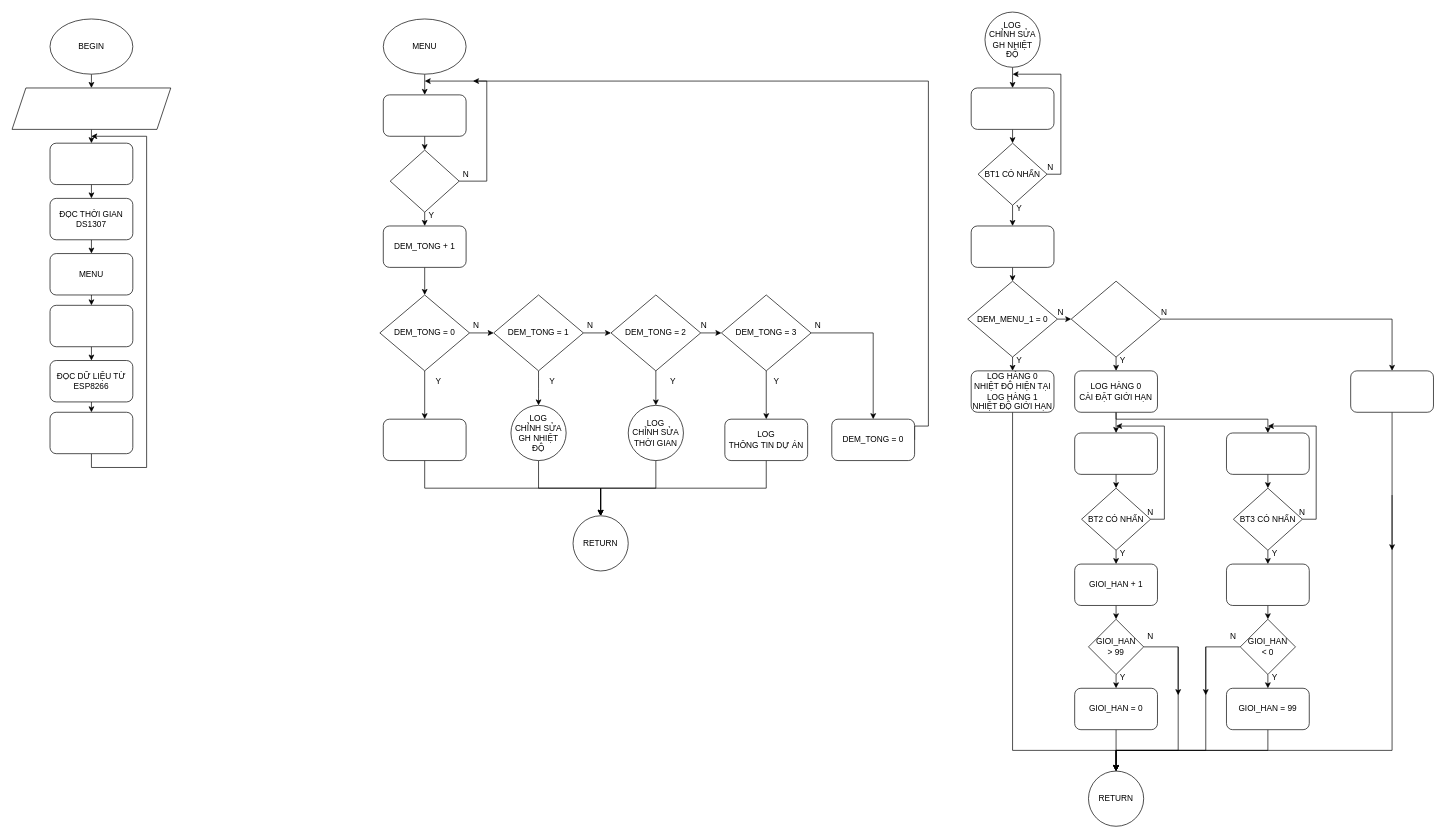
Some shapes in this 1446 by 838 pixel diagram are drawn without their labels. Each missing label, with the centre of its shape:
"BT0 CÓ NHẤN" belongs at (424,180).
"DEM_MENU = 0" belongs at (1391,391).
"DEM_MENU_1 + 1" belongs at (1012,246).
"DEM_MENU_1 = 1" belongs at (1116,318).
"GIOI_HAN - 1" belongs at (1267,584).
"LOG MÀN HÌNH CHÍNH" belongs at (424,439).
"SET UP PORTS, DS18B20, I2C, UART, TIMER3, VARIABLES" belongs at (91,108).
"ĐIỀU KHIỂN NHIỆT ĐỘ" belongs at (91,326).
"ĐIỀU KHIỂN SERVO" belongs at (91,433).
"ĐỌC NHIỆT ĐỘ DS18B20" belongs at (91,163).
"ĐỌC NÚT NHẤN BT0" belongs at (424,115).
"ĐỌC NÚT NHẤN BT1" belongs at (1012,108).
"ĐỌC NÚT NHẤN BT2" belongs at (1115,453).
"ĐỌC NÚT NHẤN BT3" belongs at (1267,453).
